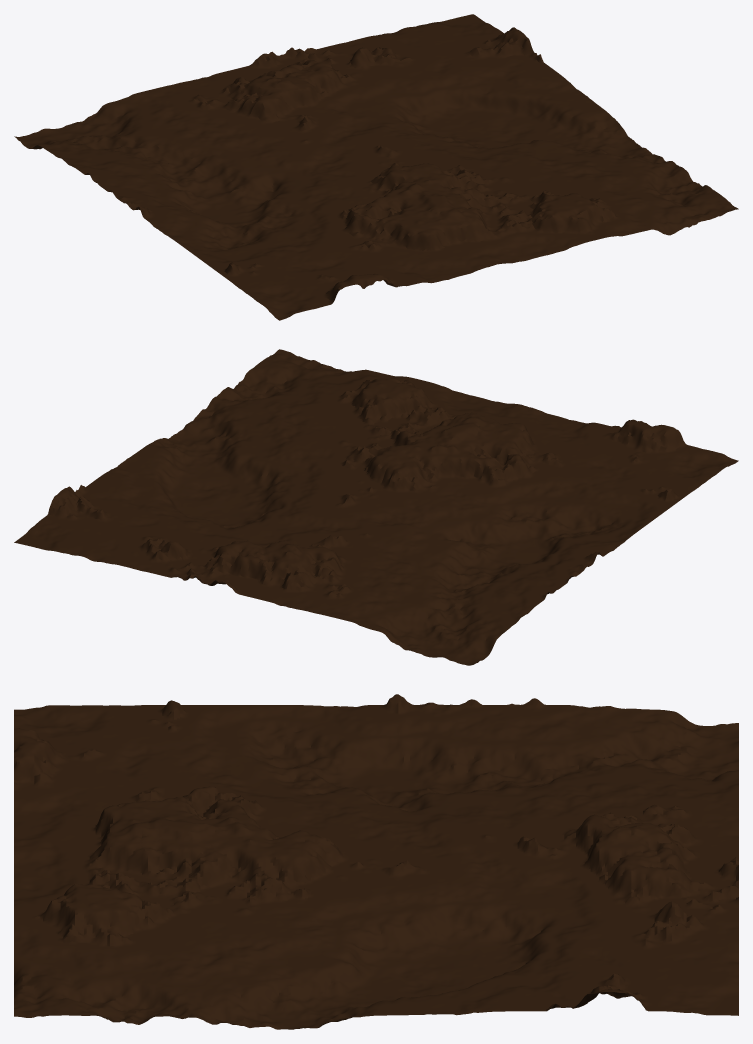
File: 2x2.3_Squares_200m_006.glb
The picture shows the model from 3 angles, top to bottom: view 1: azimuth 30°, elevation 25°; view 2: azimuth 150°, elevation 25°; view 3: azimuth 270°, elevation 25°; orthographic projection. The views are drawn at different scales.
Parts seen in each view (by area): view 1: Cube; view 2: Cube; view 3: Cube.
Part boxes in pixels (x1,y1,x2,y2): Cube: (14, 14, 738, 320); Cube: (14, 349, 738, 665); Cube: (14, 694, 738, 1029).
Bounding box in the file's own units: 500 × 39.07 × 500.
